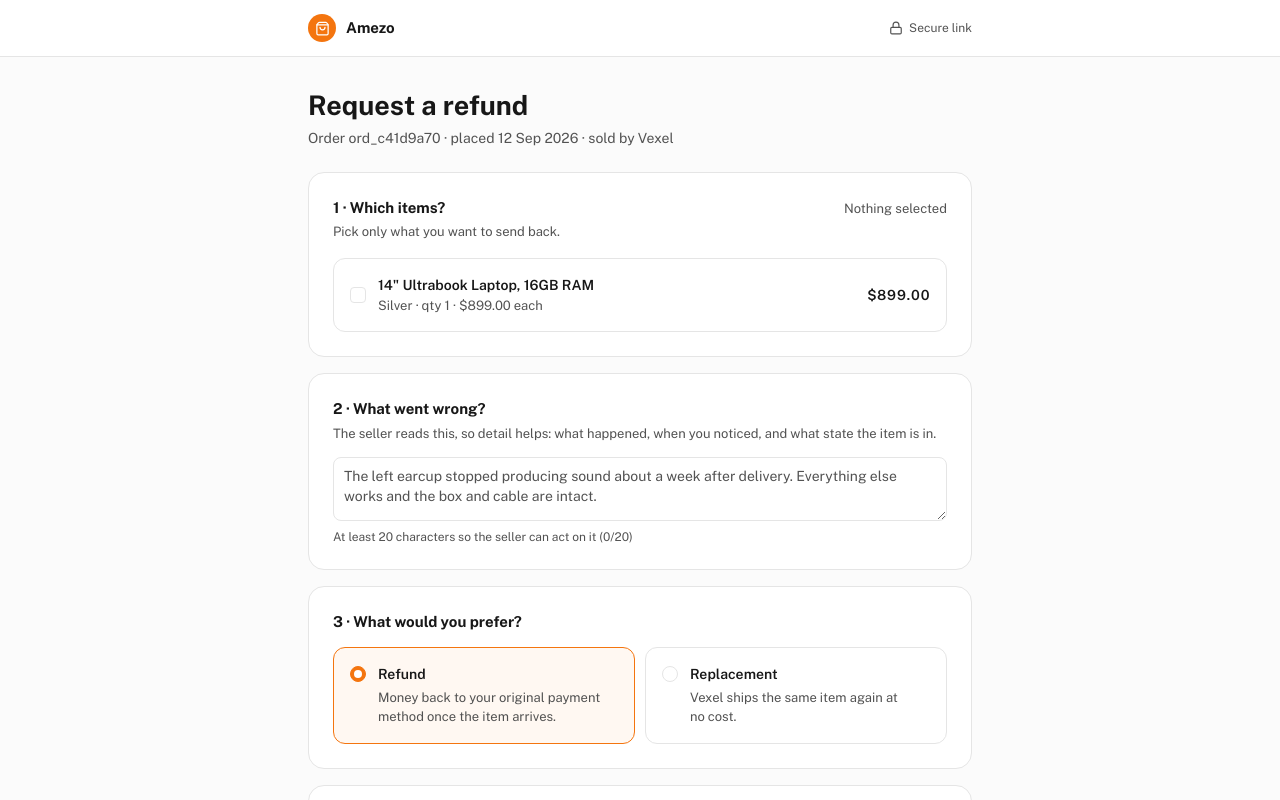
it: RefundRequest › totals only the selected lines
This screenshot has width=1280, height=800.
Expected: the text "14\" Ultrabook Laptop, 16GB RAM" is shown, [378, 277, 594, 293]
Expected: the text "Nothing selected" is shown, [844, 200, 947, 219]
Click the checkbox named "14\" Ultrabook Laptop, 16GB RAM" at {"x": 358, "y": 295}, box [350, 287, 366, 303]
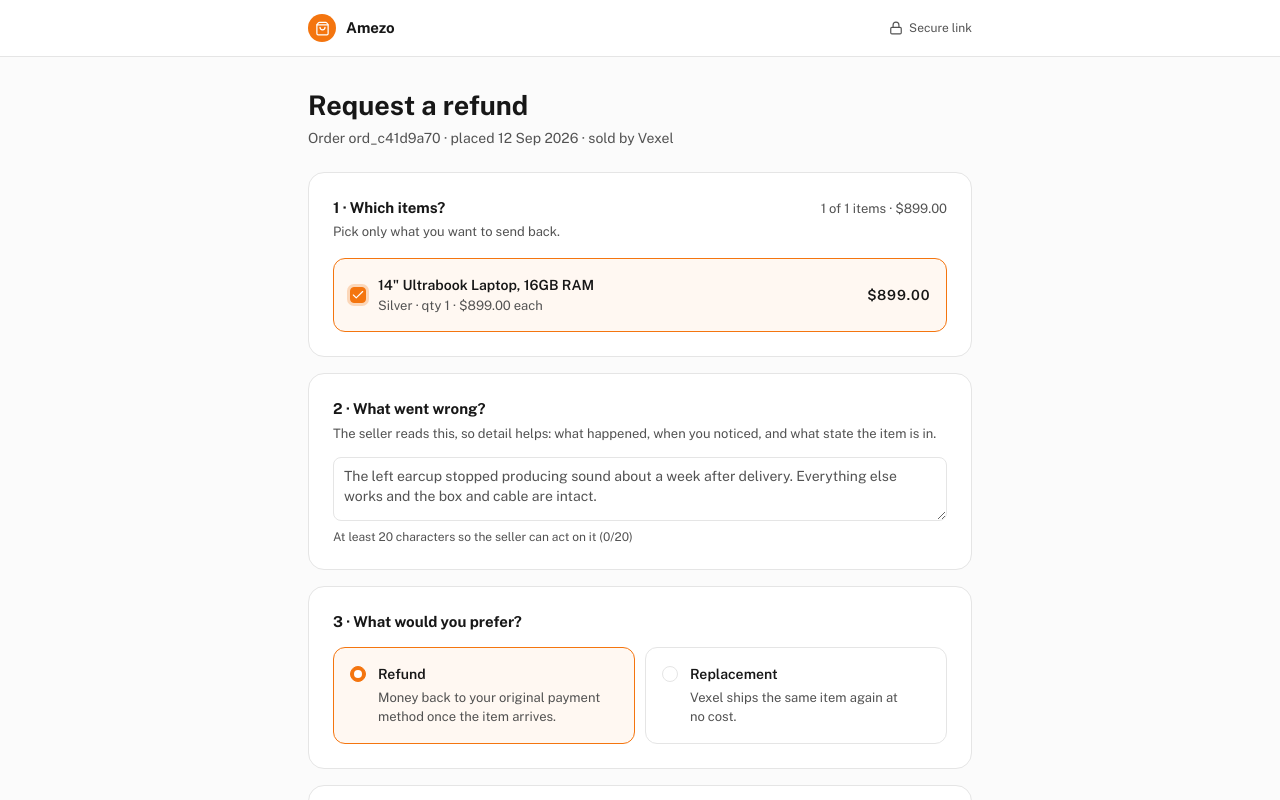
Expected: the text "1 of 1 items · $899.00" is shown, [821, 200, 947, 219]
